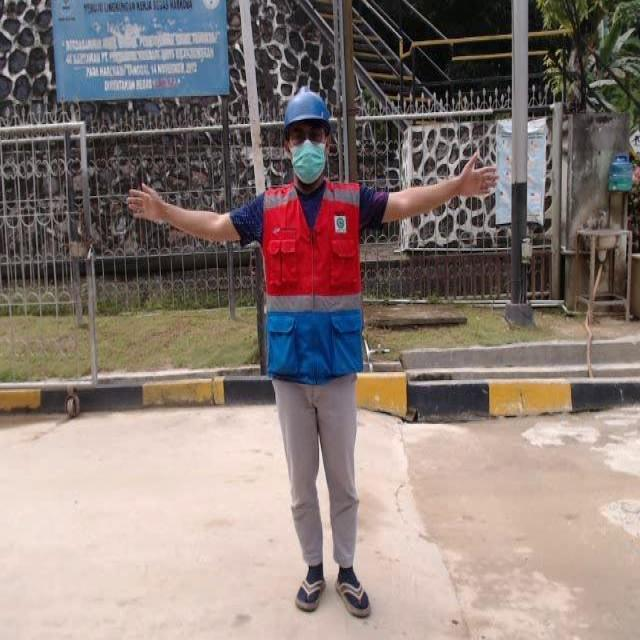helmet: (280, 86, 331, 132)
